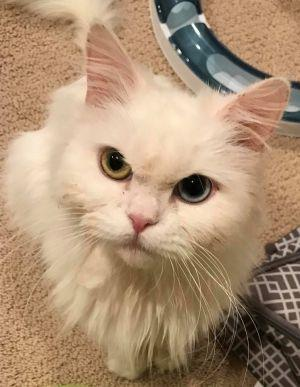persian: (46, 15, 300, 282)
